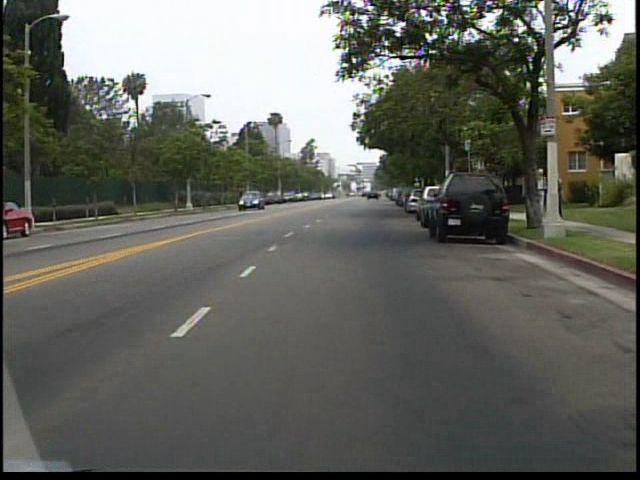person: (532, 162, 548, 220), (557, 167, 561, 219)
